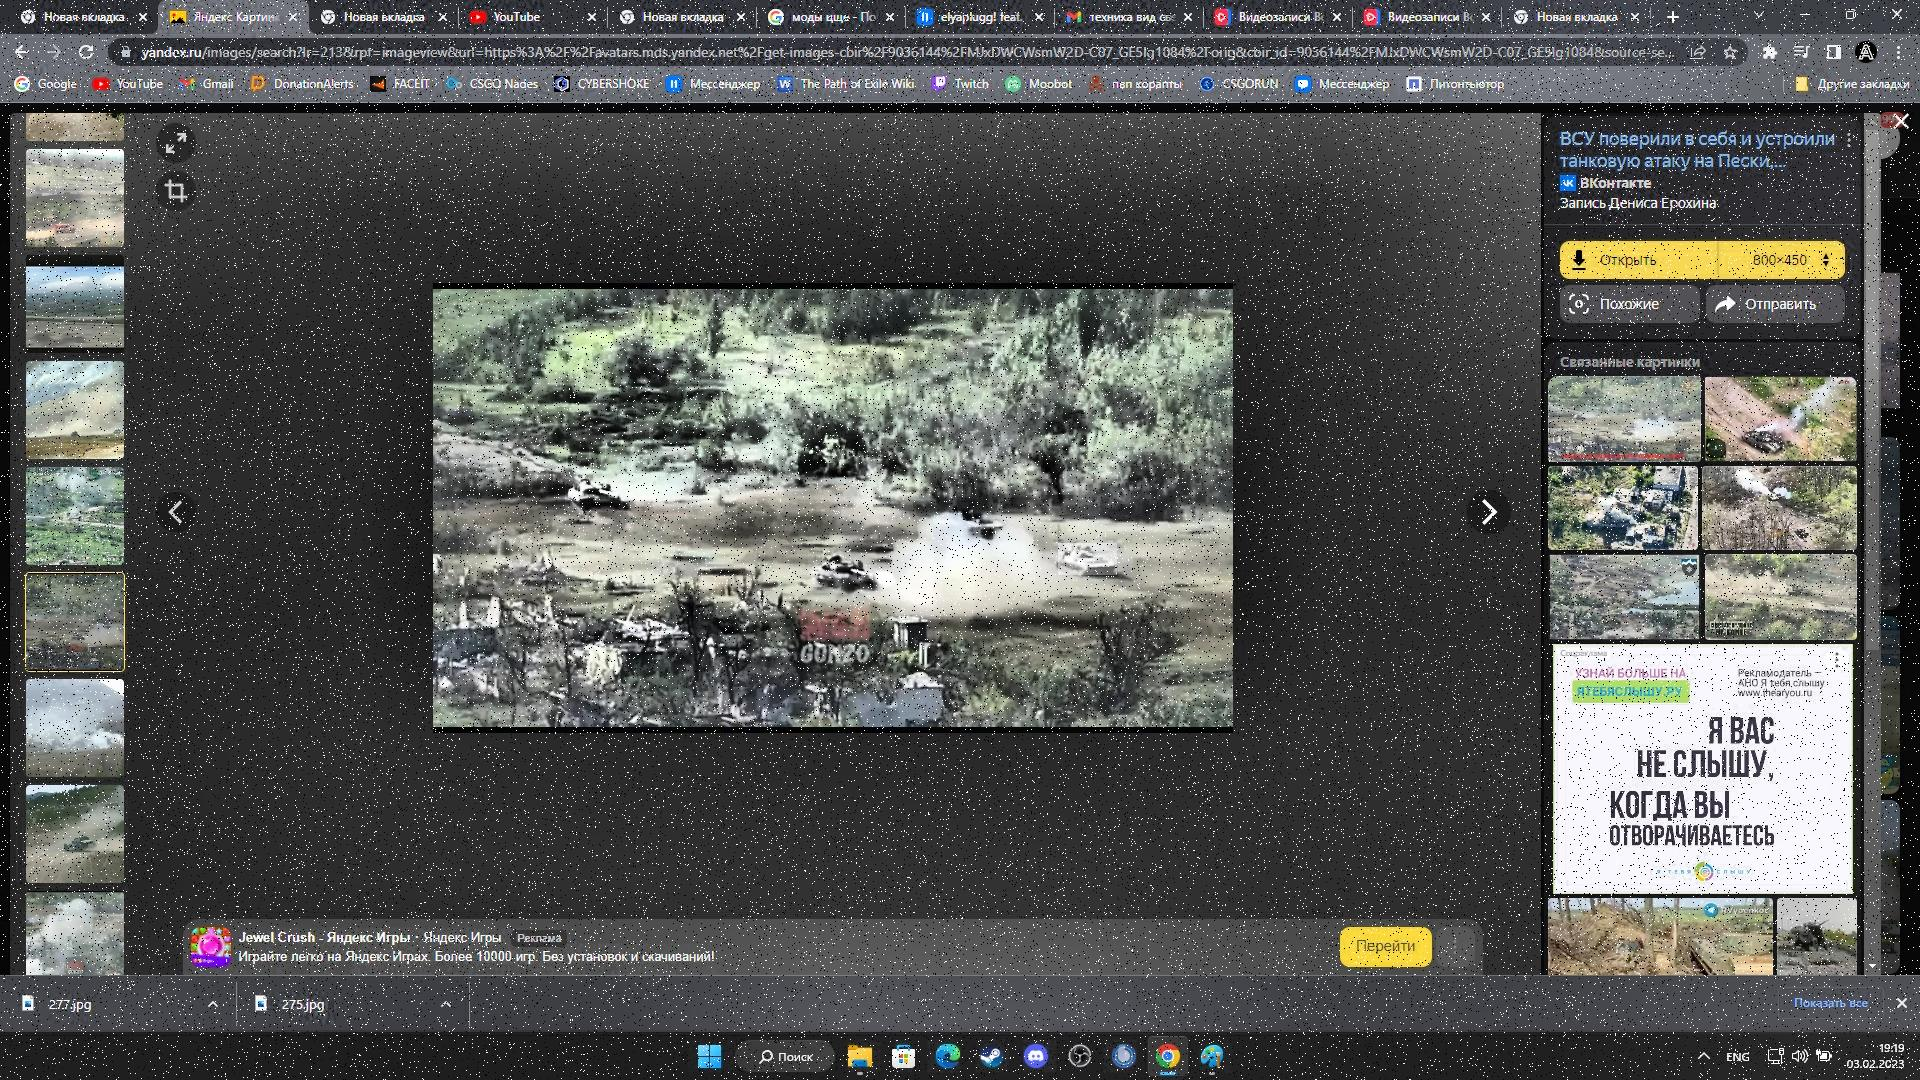military-vehicle: (808, 551, 877, 593), (566, 479, 624, 512), (1058, 543, 1117, 575)
